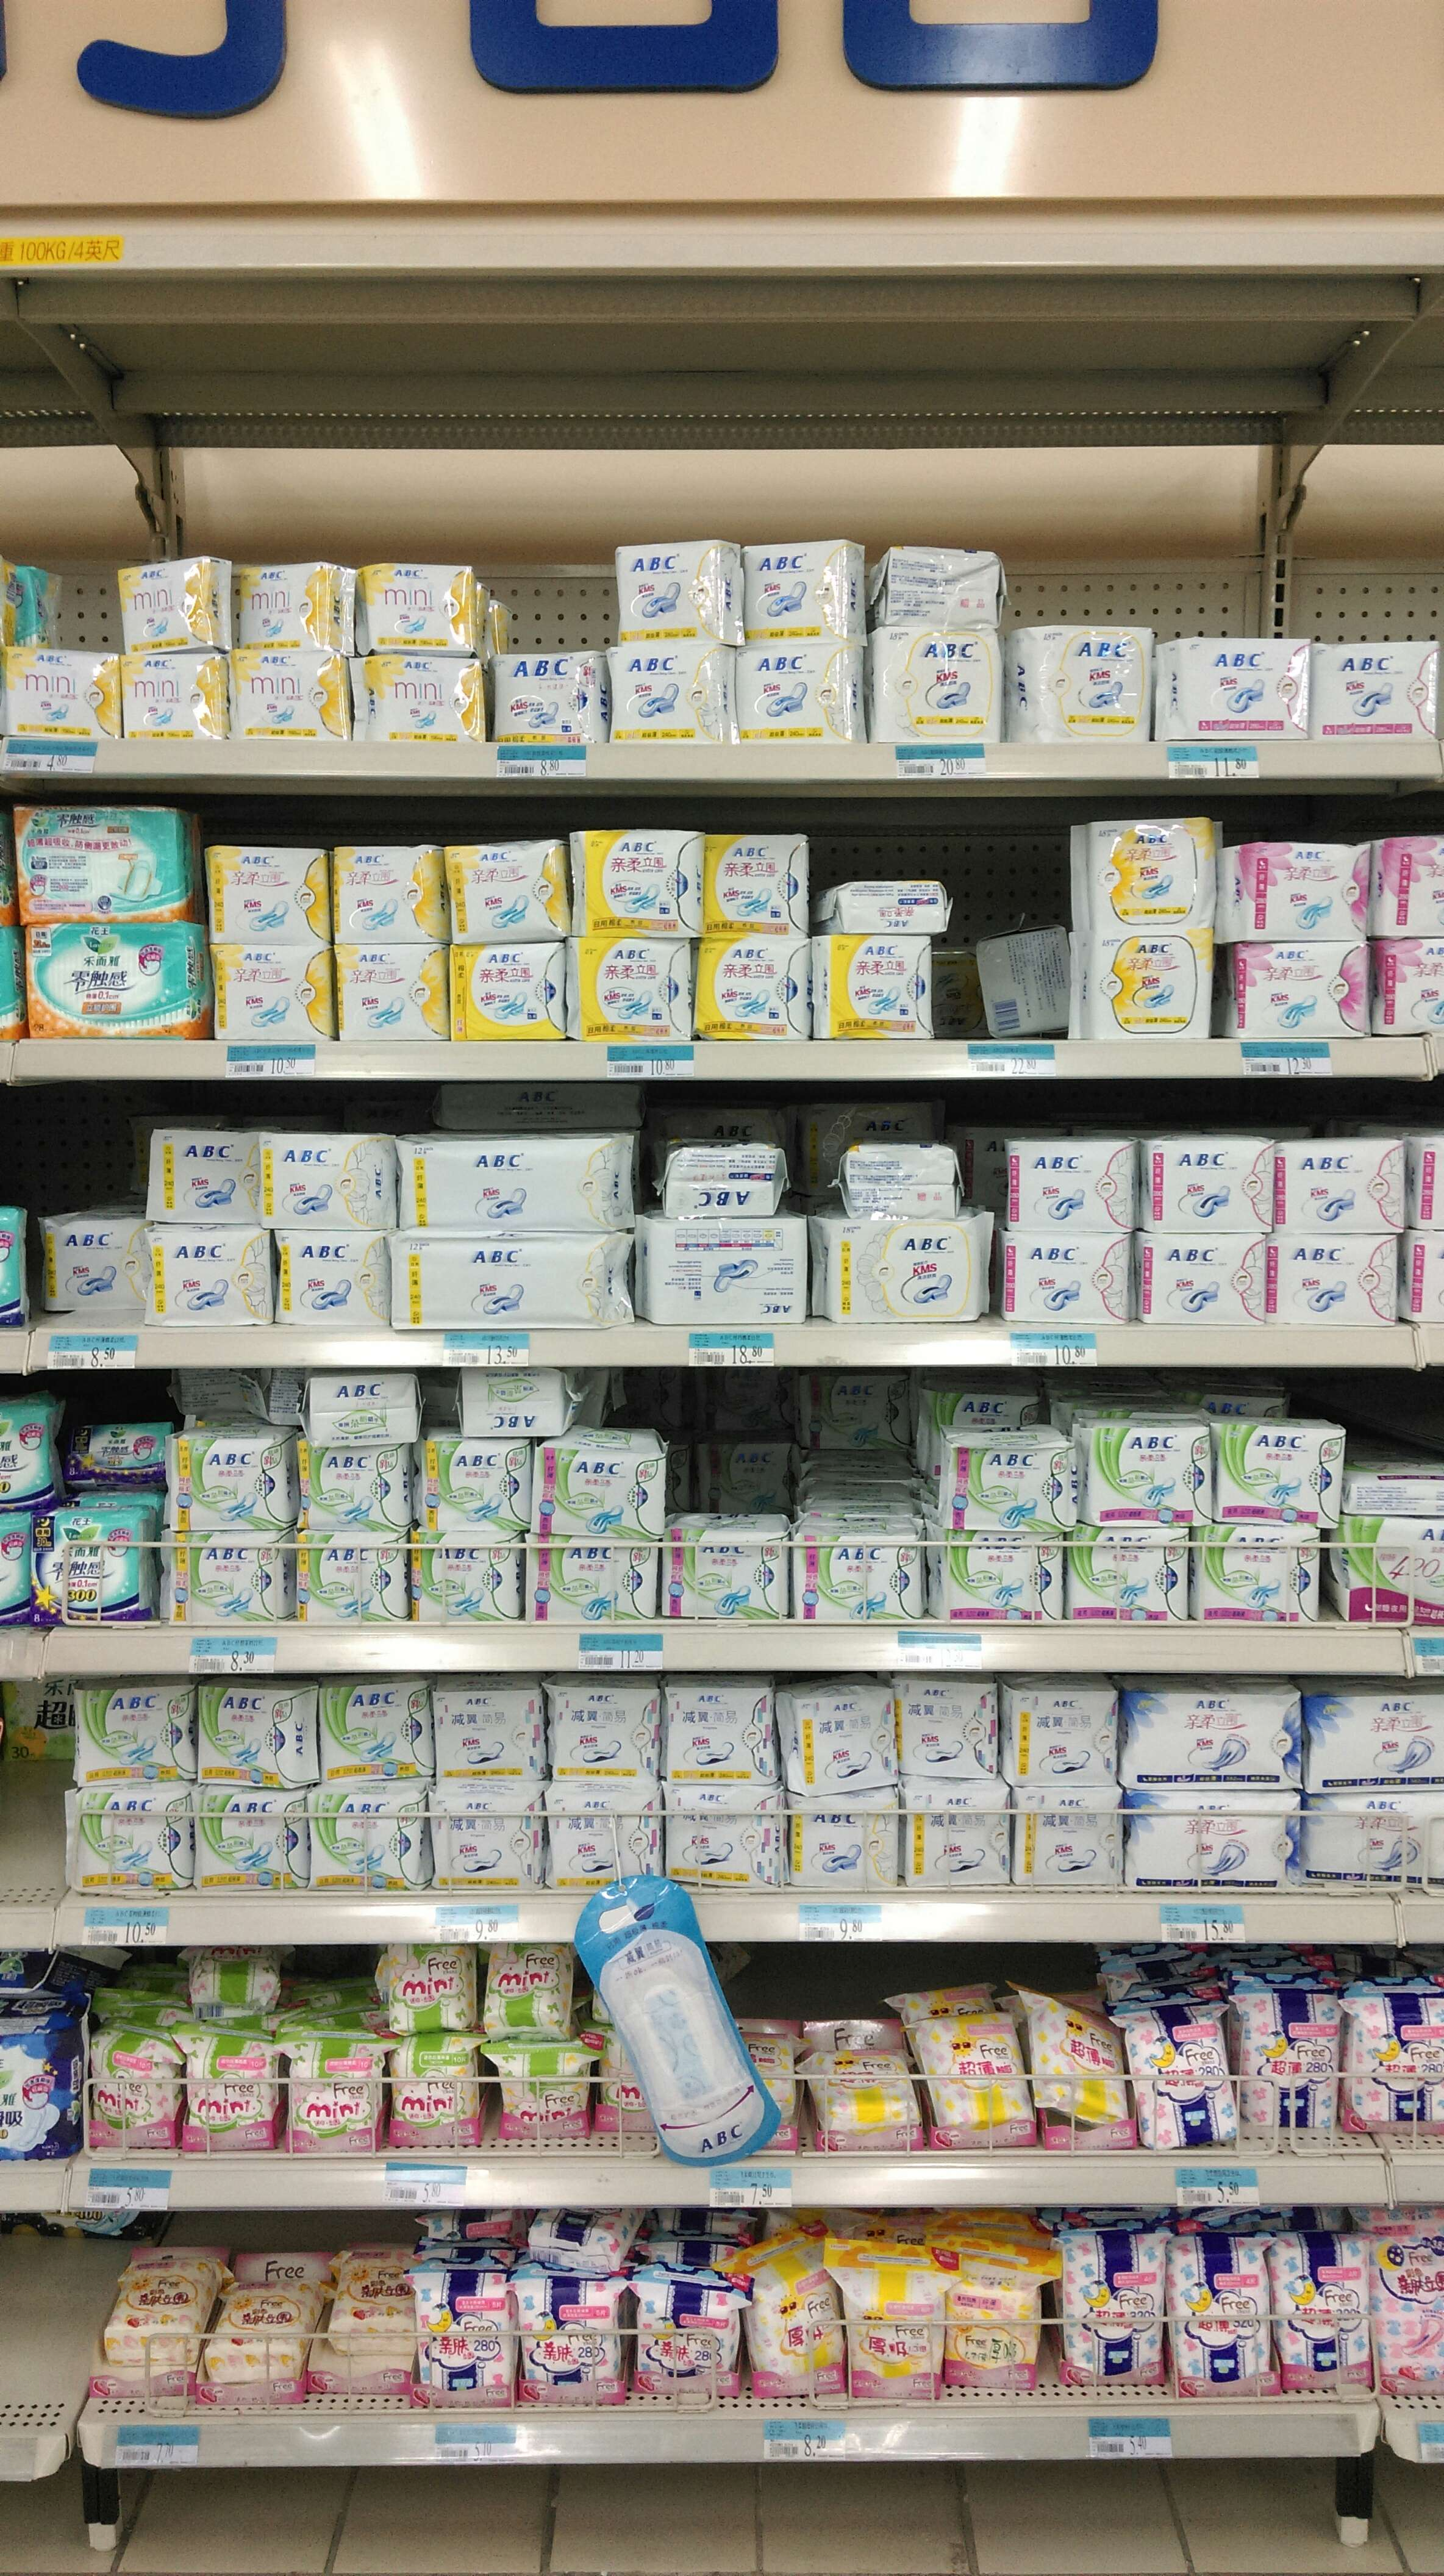Misplacement: (664, 1369, 922, 1548)
